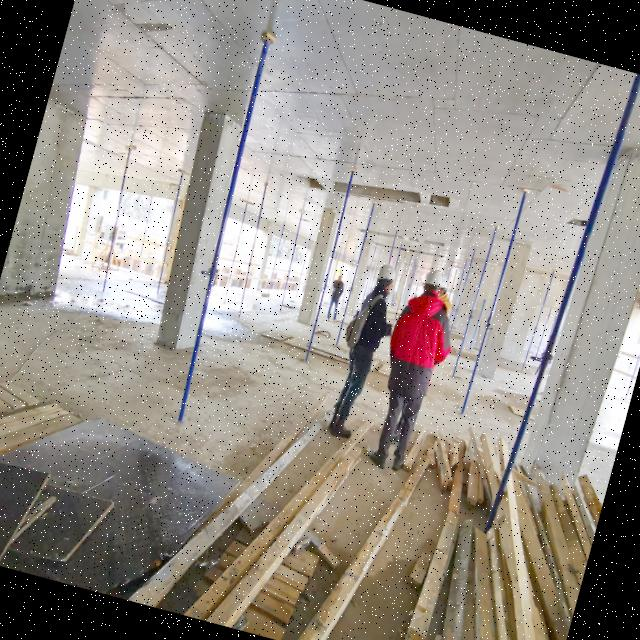Helmet: (375, 264, 398, 289), (423, 269, 445, 292), (439, 276, 450, 294), (338, 272, 344, 280)
NoJacket: (388, 287, 452, 395), (354, 283, 395, 355), (332, 279, 346, 301)
